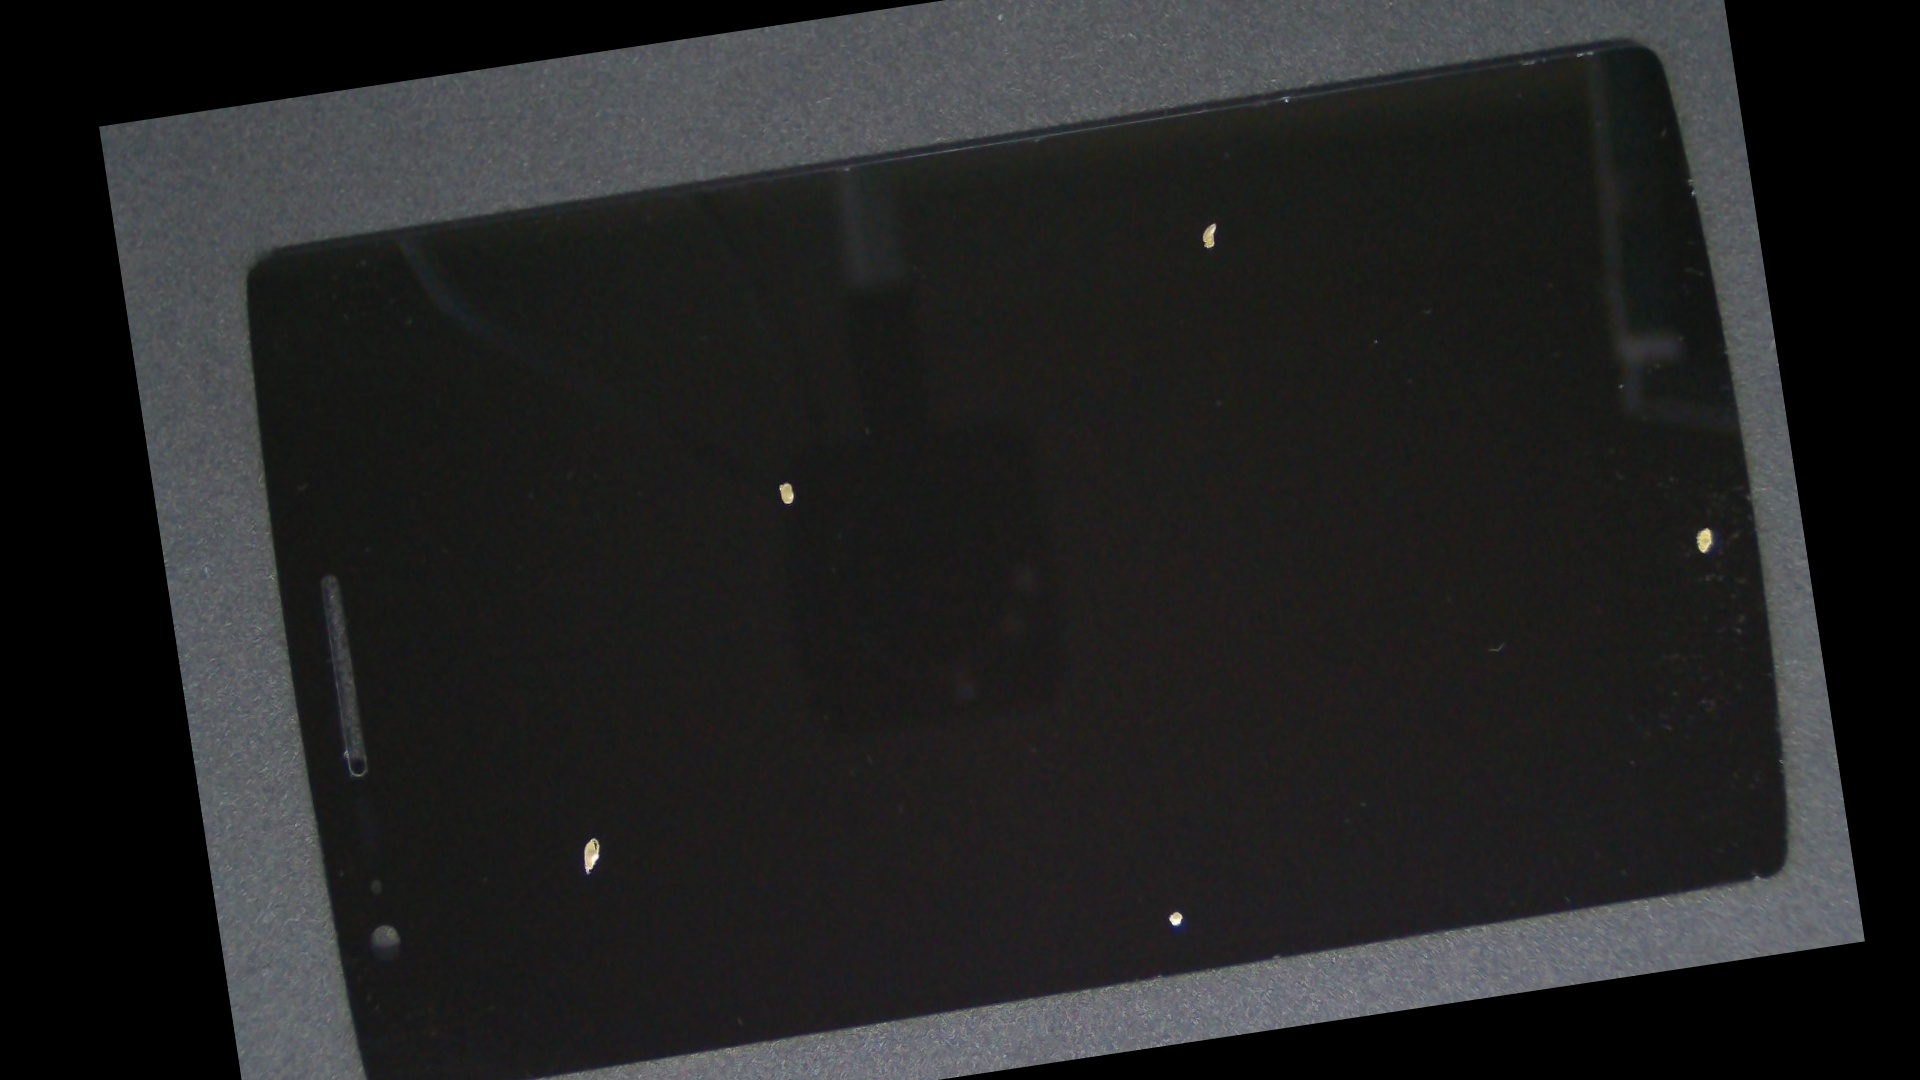oil: (638, 377, 1664, 1080), (903, 198, 1847, 949), (655, 13, 1762, 434), (442, 210, 1121, 752), (345, 422, 825, 1080)
